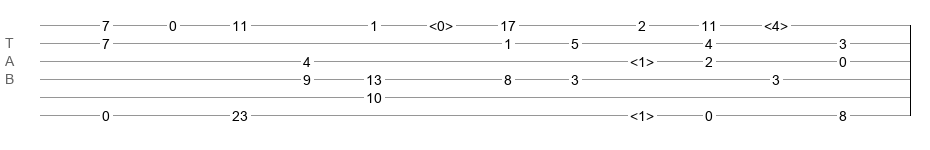0: (102, 108, 110, 118), (169, 18, 177, 28), (705, 108, 713, 118), (839, 54, 847, 64)
1: (370, 18, 378, 28), (504, 36, 512, 46)
10: (366, 90, 382, 100)
11: (232, 18, 248, 28), (701, 18, 717, 28)
13: (366, 72, 382, 82)
17: (500, 18, 516, 28)
2: (638, 18, 646, 28), (705, 54, 713, 64)
23: (232, 108, 248, 118)
3: (571, 72, 579, 82), (772, 72, 780, 82), (839, 36, 847, 46)
4: (303, 54, 311, 64), (705, 36, 713, 46)
5: (571, 36, 579, 46)
7: (102, 36, 110, 46), (102, 18, 110, 28)
8: (504, 72, 512, 82), (839, 108, 847, 118)
9: (303, 72, 311, 82)
harmonic: (429, 18, 453, 28), (630, 54, 654, 64), (630, 108, 654, 118), (764, 18, 788, 28)
